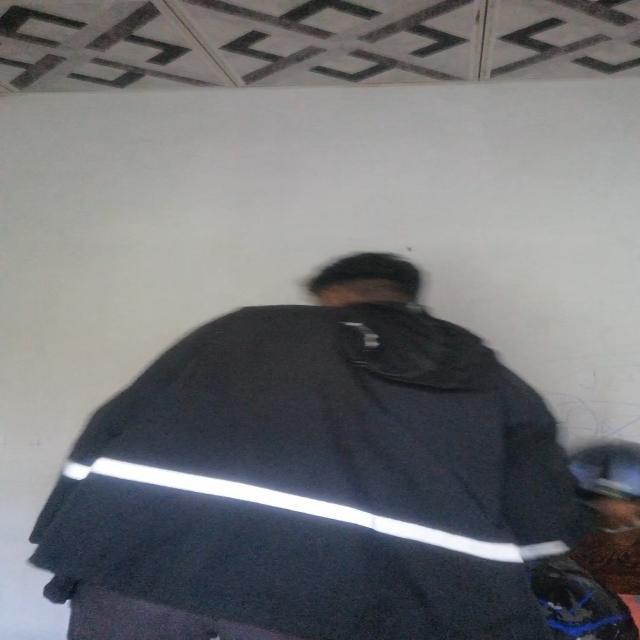Jacket_Wearer: (59, 292, 575, 624)
Person: (42, 231, 579, 640)
